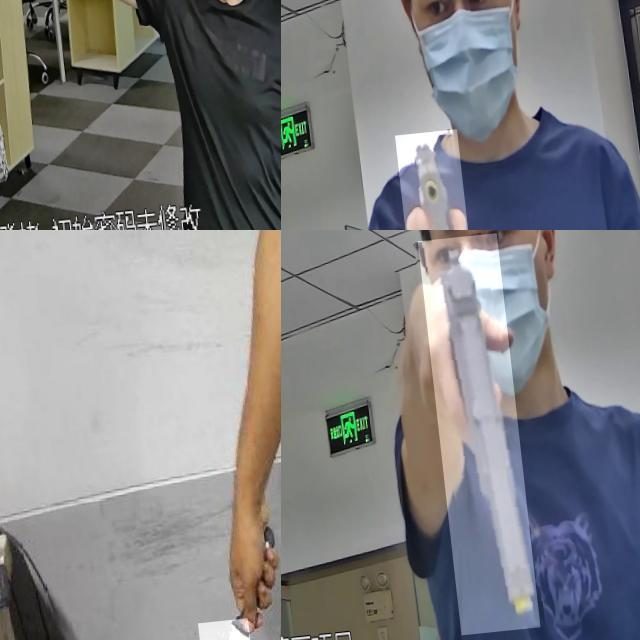gun-knife-thesis - v11 Yolov5 augmented: (412, 240, 526, 640), (385, 136, 464, 230), (0, 0, 32, 75)
